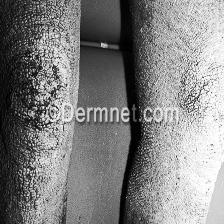Non-Cancerous Skin Condition: (144, 0, 224, 224), (0, 0, 73, 223)
